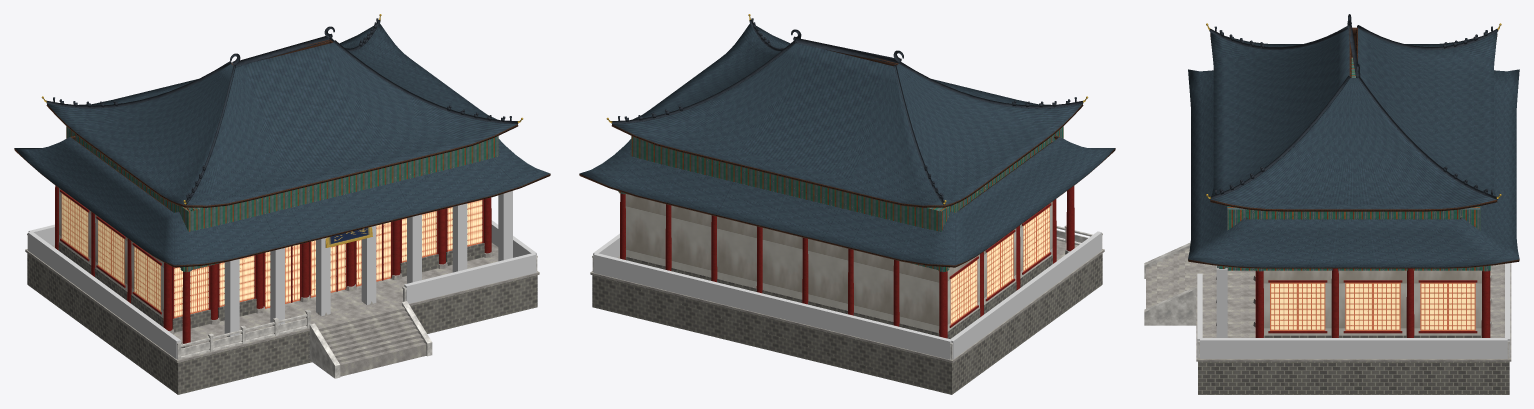
The model's file is outer_sect_hall.glb.
The picture shows the model from 3 angles, left to right: view 1: azimuth 30°, elevation 25°; view 2: azimuth 150°, elevation 25°; view 3: azimuth 270°, elevation 25°; orthographic projection. The views are drawn at different scales.
Visible parts, largest first — view 1: OuterHallTopRoof, OuterHallDSkirt, OuterHallPodiumBase, OuterHallLattice, OuterHallClerestory, OuterHallPodiumCap, OuterHallColumns, OuterHallStairsfront, OuterHallRail-convcolonly.004, OuterHallRail-convcolonly.001, OuterHallTopRoofRidges, OuterHallDado (+13 smaller); view 2: OuterHallTopRoof, OuterHallDSkirt, OuterHallWalls, OuterHallPodiumBase, OuterHallRail-convcolonly.003, OuterHallClerestory, OuterHallColumns, OuterHallLattice, OuterHallRail-convcolonly.004, OuterHallTopRoofRidges, OuterHallDado, OuterHallPodiumCap (+2 smaller); view 3: OuterHallTopRoof, OuterHallDSkirt, OuterHallPodiumBase, OuterHallLattice, OuterHallRail-convcolonly.002, OuterHallPodiumCap, OuterHallWalls, OuterHallClerestory, OuterHallTopRoofRidges, OuterHallColumns, OuterHallStairsfront, OuterHallCheeksfront (+7 smaller).
Part boxes in pixels (box(x1,y1,x2,y2)): OuterHallTopRoof: box(46, 23, 518, 207); OuterHallDSkirt: box(14, 135, 550, 267); OuterHallPodiumBase: box(27, 253, 537, 394); OuterHallLattice: box(61, 193, 482, 317); OuterHallClerestory: box(66, 126, 498, 231); OuterHallPodiumCap: box(25, 243, 539, 362); OuterHallColumns: box(55, 185, 491, 343); OuterHallStairsfront: box(317, 306, 426, 376); OuterHallRail-convcolonly.004: box(28, 232, 180, 359); OuterHallRail-convcolonly.001: box(404, 253, 536, 303); OuterHallTopRoofRidges: box(46, 20, 518, 204); OuterHallDado: box(58, 242, 484, 332); OuterHallTopRoof: box(611, 23, 1083, 207); OuterHallDSkirt: box(579, 135, 1115, 267); OuterHallWalls: box(625, 194, 1052, 332); OuterHallPodiumBase: box(592, 253, 1102, 394); OuterHallRail-convcolonly.003: box(593, 253, 951, 359); OuterHallClerestory: box(631, 126, 1063, 231); OuterHallColumns: box(620, 186, 1074, 338); OuterHallLattice: box(950, 206, 1049, 324); OuterHallRail-convcolonly.004: box(949, 231, 1101, 359); OuterHallTopRoofRidges: box(611, 20, 1083, 204); OuterHallDado: box(625, 255, 1052, 338); OuterHallPodiumCap: box(590, 240, 1104, 362); OuterHallTopRoof: box(1210, 27, 1497, 211); OuterHallDSkirt: box(1188, 69, 1519, 268); OuterHallPodiumBase: box(1198, 361, 1509, 394); OuterHallLattice: box(1270, 282, 1475, 330); OuterHallRail-convcolonly.002: box(1200, 338, 1507, 358); OuterHallPodiumCap: box(1196, 263, 1511, 361); OuterHallWalls: box(1263, 270, 1481, 335); OuterHallClerestory: box(1227, 57, 1480, 230); OuterHallTopRoofRidges: box(1209, 14, 1498, 199); OuterHallColumns: box(1255, 268, 1490, 337); OuterHallStairsfront: box(1146, 248, 1196, 308); OuterHallCheeksfront: box(1144, 242, 1196, 325).
Size of what is drawn, in the model's own units: 25.94 by 16.85 by 21.66.
Materials: 12 (12 with a texture image).
